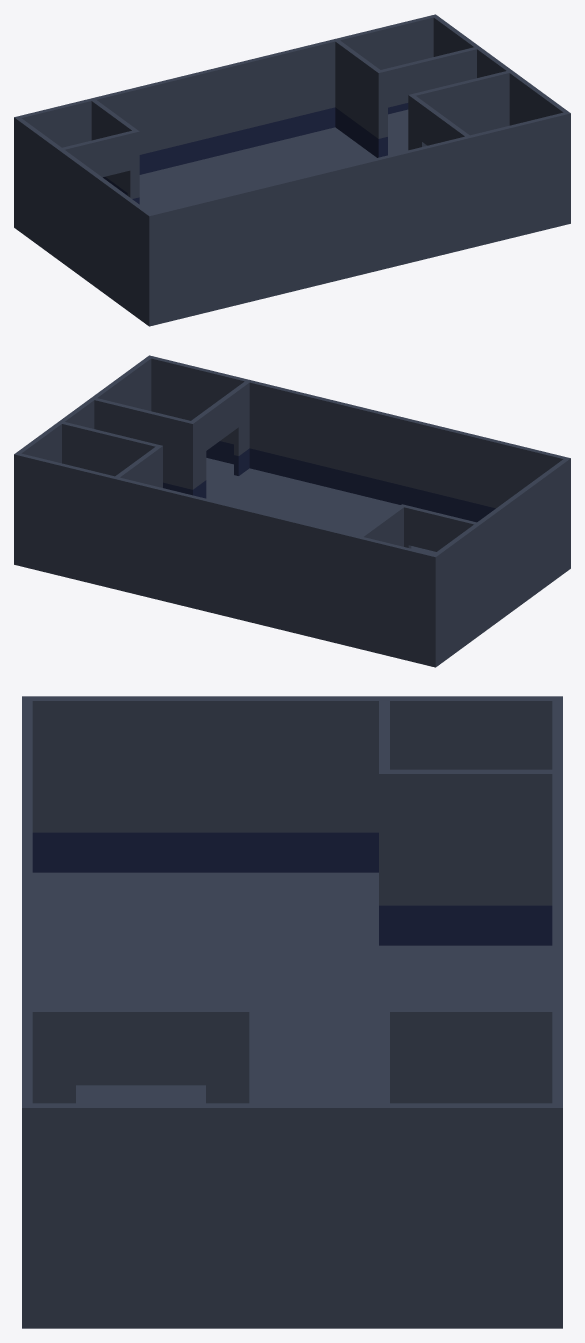
Rendered from store.fbx.
The picture shows the model from 3 angles, top to bottom: view 1: azimuth 30°, elevation 25°; view 2: azimuth 150°, elevation 25°; view 3: azimuth 270°, elevation 25°; orthographic projection. The views are drawn at different scales.
Parts seen in each view (by area): view 1: pCube1; view 2: pCube1; view 3: pCube1.
Part boxes in pixels (x1,y1,x2,y2): pCube1: [14, 14, 570, 326]; pCube1: [14, 355, 570, 667]; pCube1: [22, 696, 562, 1328].
Bounding box in the file's own units: 18 × 4.5 × 10.
